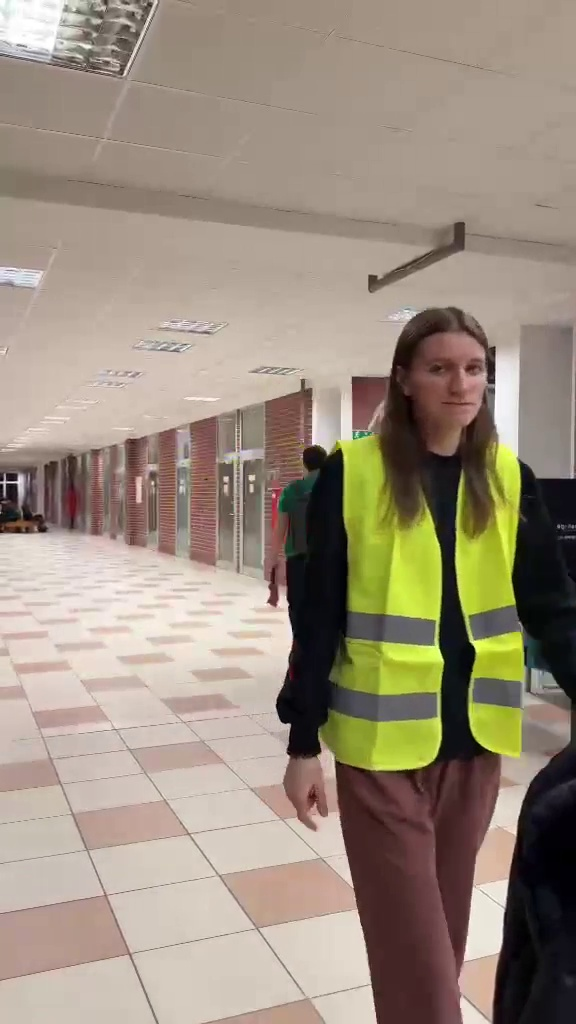vest: (288, 308, 567, 996)
